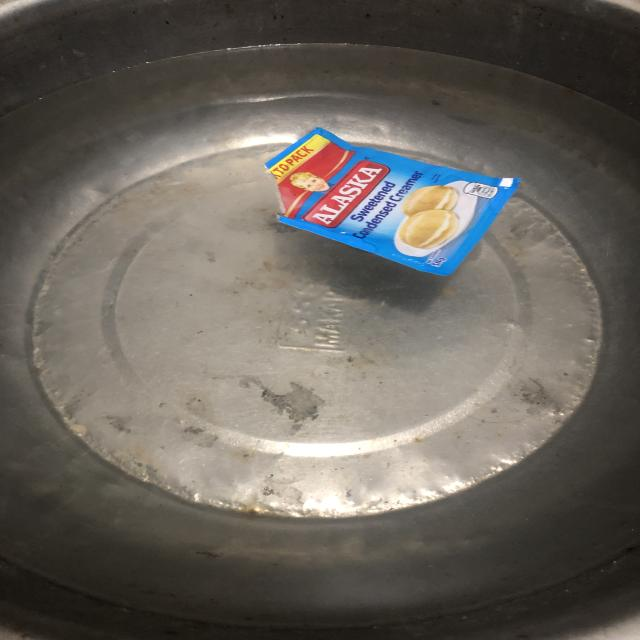Plastic Wrapper: (258, 123, 522, 280)
